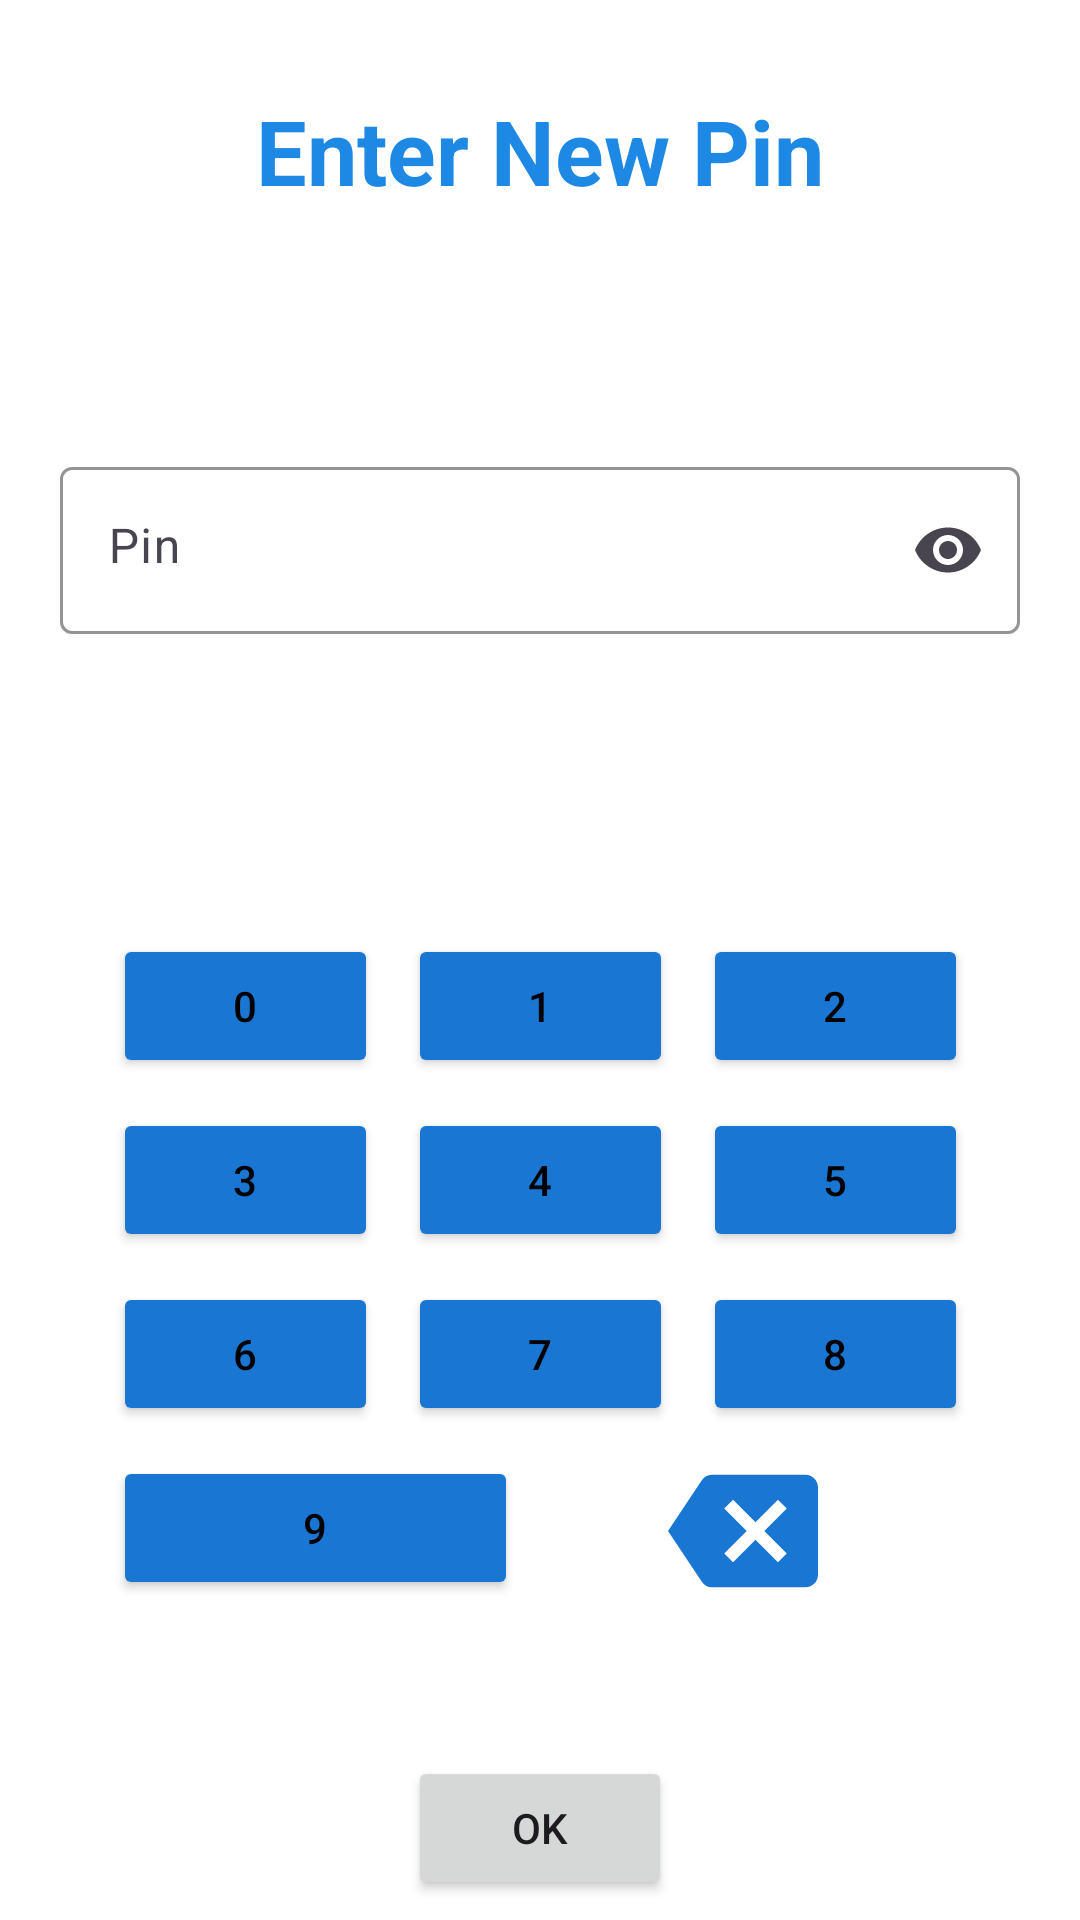

Where to tap for icons on this 1080x1920 app screen, as (x,y):
backspace: (743,1531)
